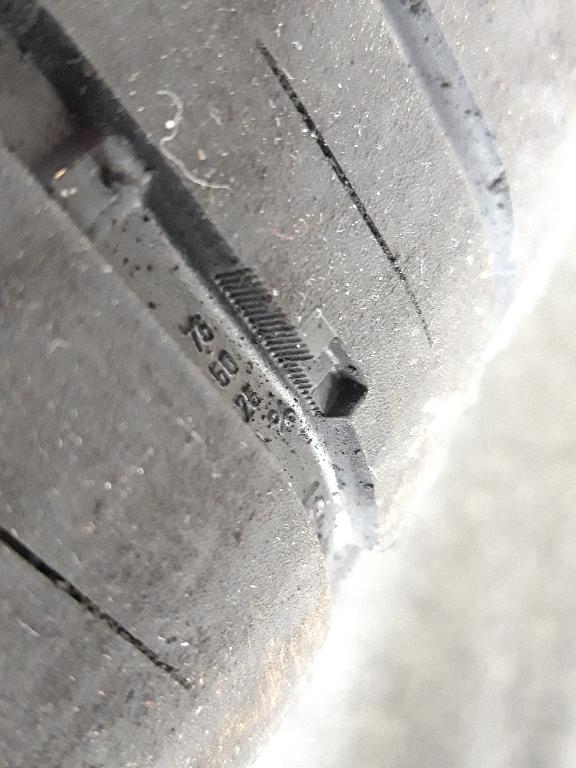temoin:50: (254, 301, 378, 427)
